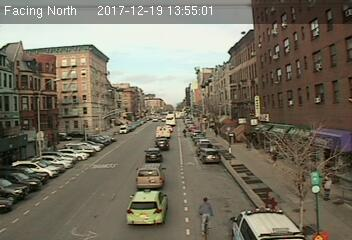bicycle: (197, 194, 216, 240)
car: (127, 190, 169, 225), (134, 164, 166, 189), (199, 148, 221, 163), (143, 147, 162, 163), (155, 137, 170, 150)
police: (230, 206, 301, 240)
truck: (156, 125, 170, 138)
